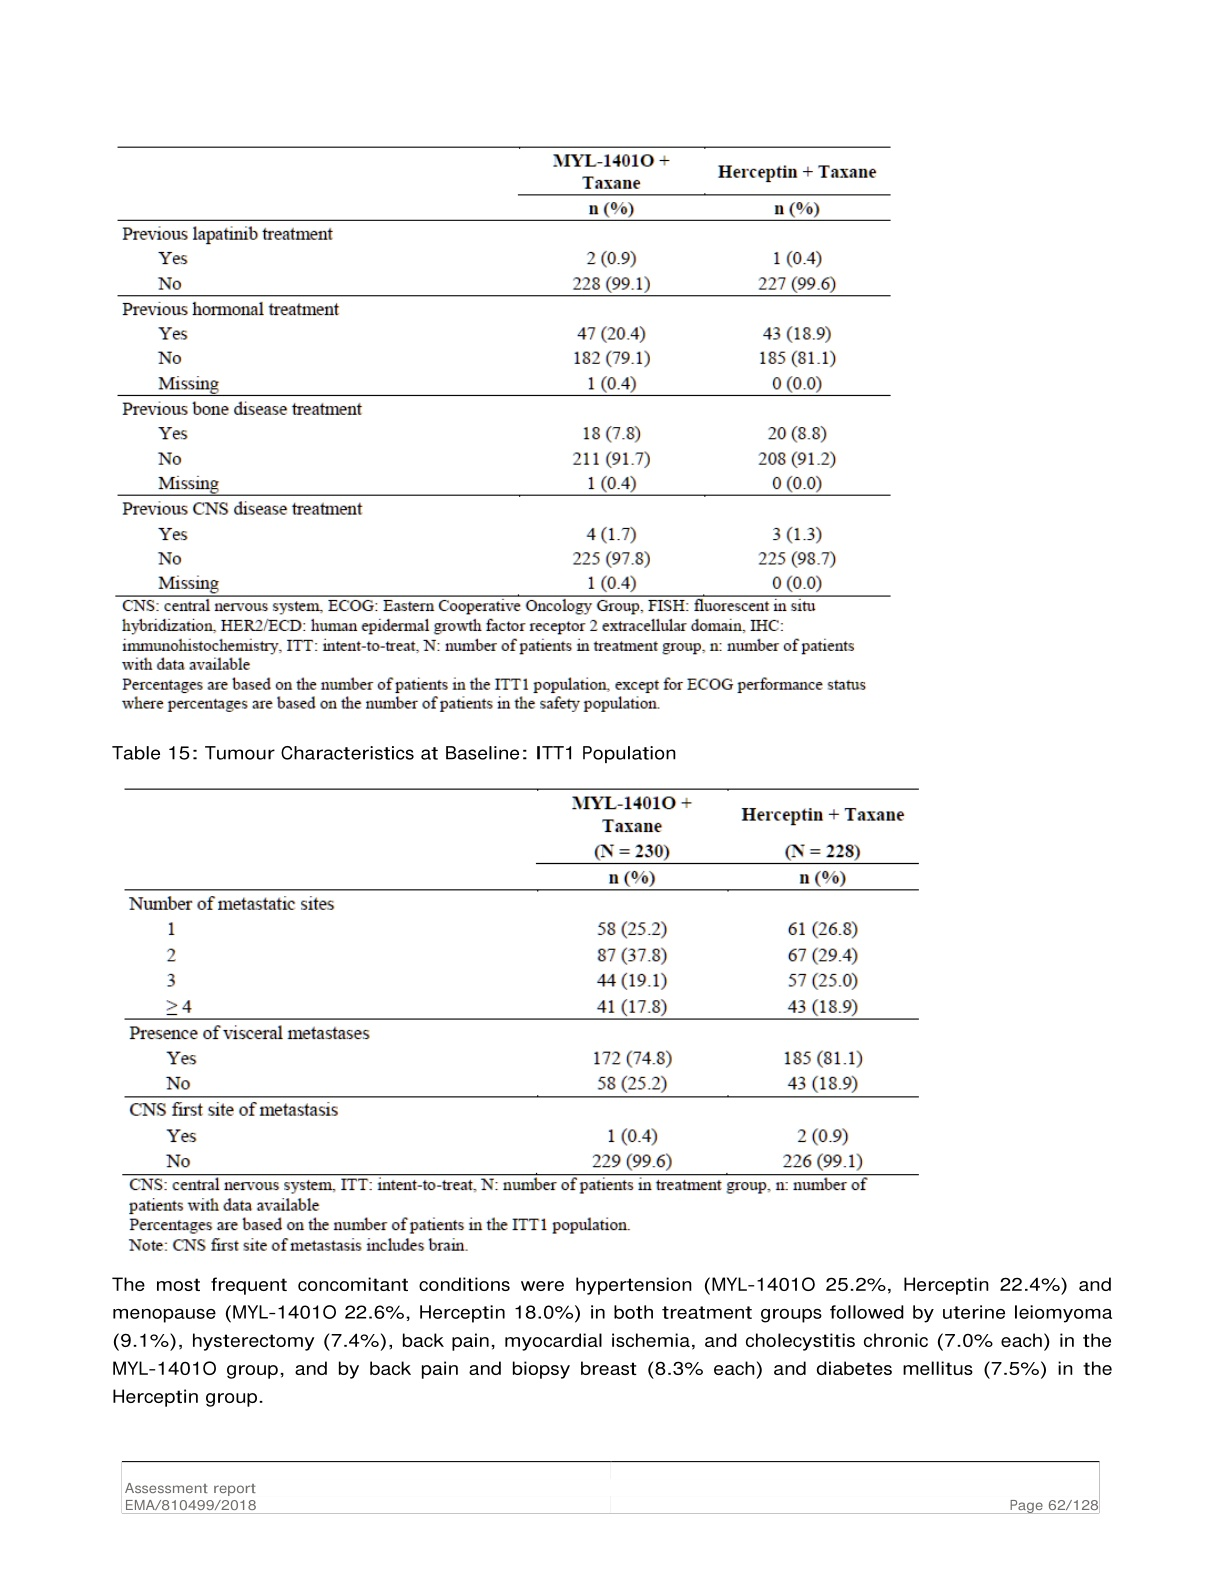partial_lined: (114, 144, 894, 598), (123, 786, 921, 1178)
